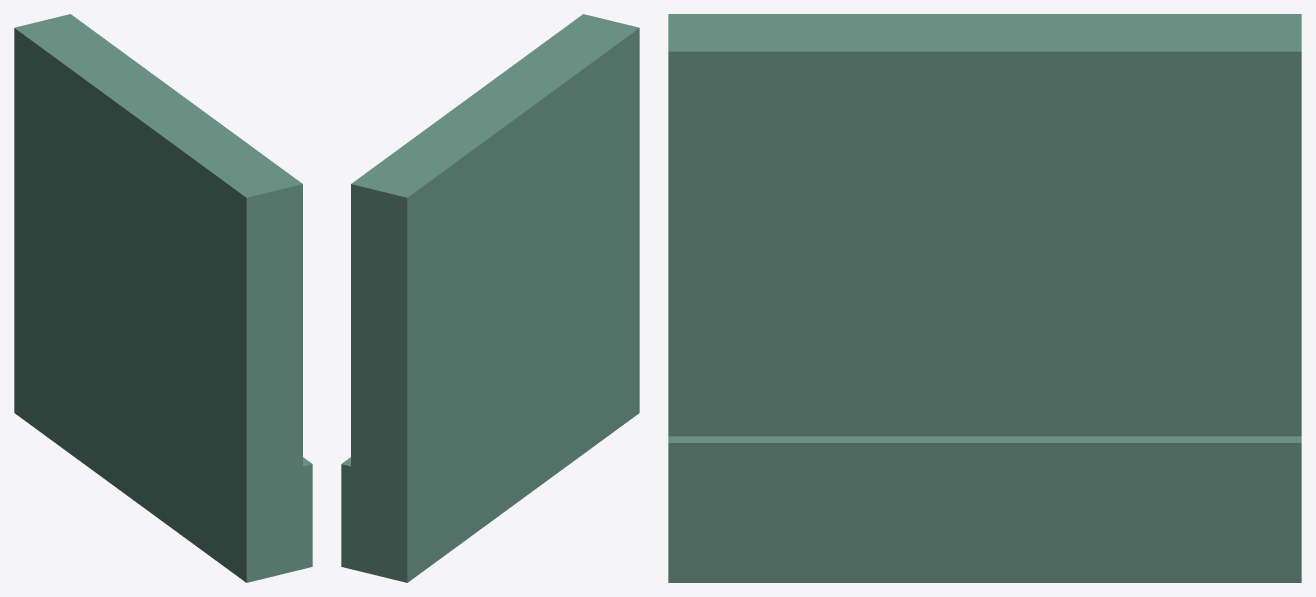
Rendered from xingfuli-vertical-garden-massing.glb.
3 renders of one model, left to right at view 1: azimuth 30°, elevation 25°; view 2: azimuth 150°, elevation 25°; view 3: azimuth 270°, elevation 25°, orthographic. The views are drawn at different scales.
Parts seen in each view (by area): view 1: xingfuli-vertical-garden-green-massing; view 2: xingfuli-vertical-garden-green-massing; view 3: xingfuli-vertical-garden-green-massing.
Boxes of the visible parts, left/top/right/bottom form: xingfuli-vertical-garden-green-massing: left=14, top=14, right=312, bottom=582; xingfuli-vertical-garden-green-massing: left=341, top=14, right=639, bottom=582; xingfuli-vertical-garden-green-massing: left=668, top=14, right=1301, bottom=582.
Size of the model in its own units: 1.35 by 7.5 by 8.2.
